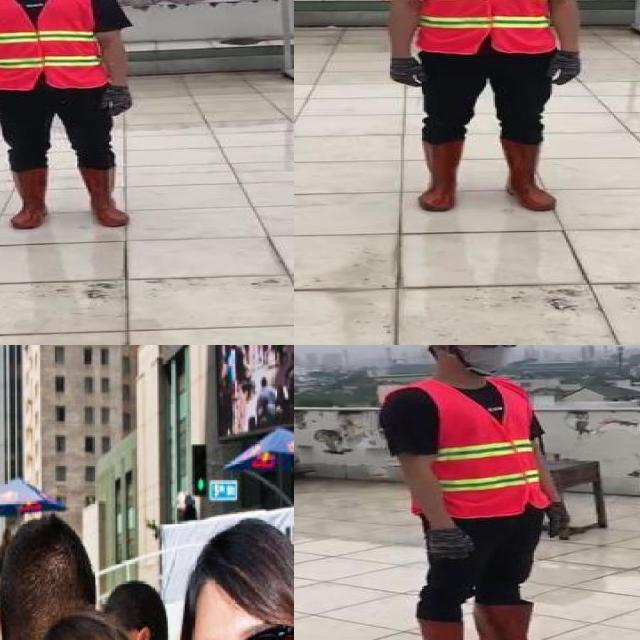boots: (495, 139, 562, 213), (477, 598, 575, 640), (74, 166, 132, 225), (418, 138, 459, 211), (402, 614, 505, 640), (8, 168, 52, 227)
face_mask: (456, 345, 517, 370)
glasses: (463, 345, 522, 351)
hand_glove: (420, 526, 477, 563), (381, 56, 429, 88), (536, 502, 571, 542), (548, 51, 582, 85), (100, 88, 134, 118)
head_nohelmet: (177, 530, 294, 604), (5, 513, 94, 573), (29, 620, 129, 640)
person: (360, 345, 611, 640), (366, 0, 593, 215), (0, 0, 157, 230)
vest: (390, 385, 548, 519), (0, 0, 107, 89), (417, 0, 559, 53)
